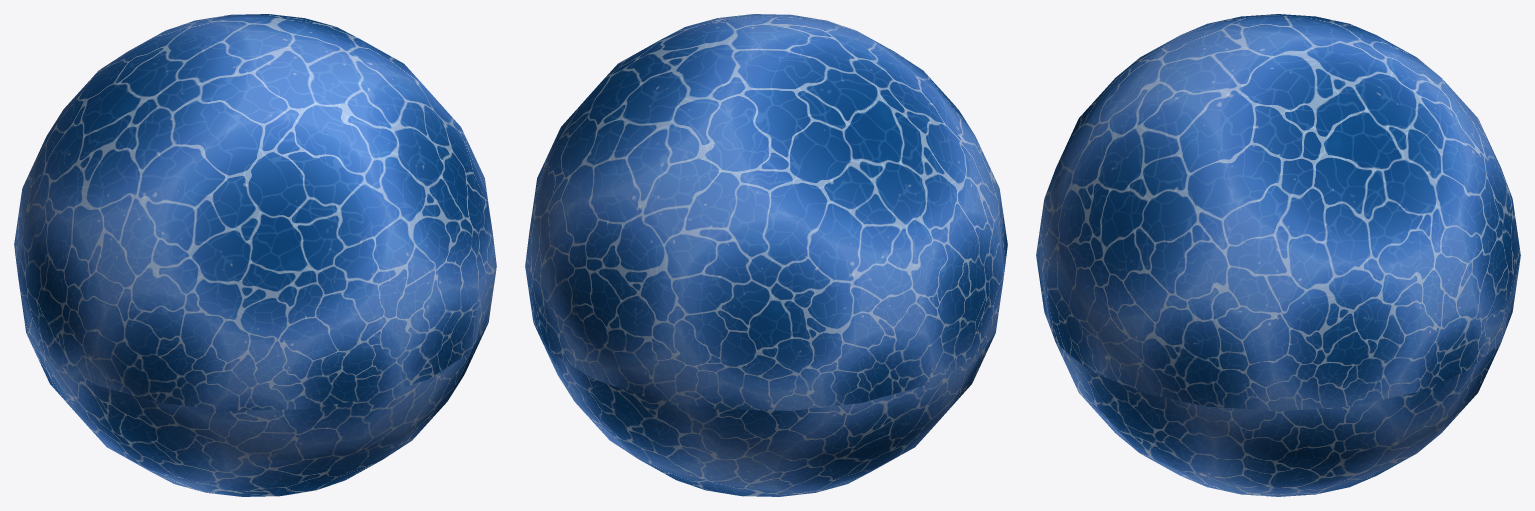
Rendered from shield.obj.
3 renders of one model, left to right at view 1: azimuth 30°, elevation 25°; view 2: azimuth 150°, elevation 25°; view 3: azimuth 270°, elevation 25°, orthographic.
Visible parts, largest first — view 1: shield; view 2: shield; view 3: shield.
Part boxes in pixels (bbox=[...]): shield: bbox=[14, 14, 496, 496]; shield: bbox=[525, 14, 1007, 496]; shield: bbox=[1036, 14, 1520, 496].
Size of the model in its own units: 14.98 by 14.98 by 14.98.
2 materials, 2 textured.
